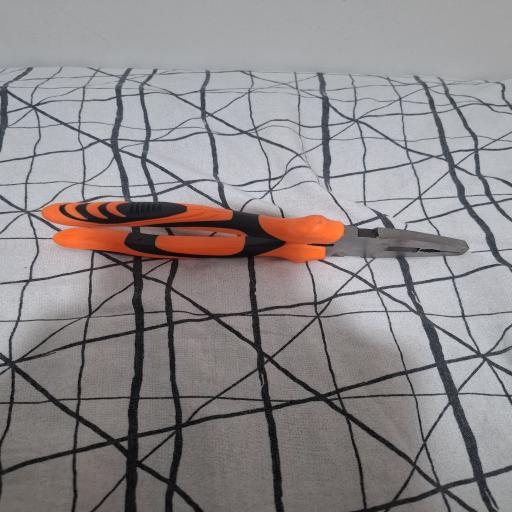alicate: (39, 198, 474, 276)
